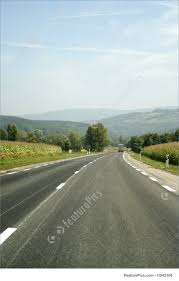strada: (2, 150, 177, 270)
